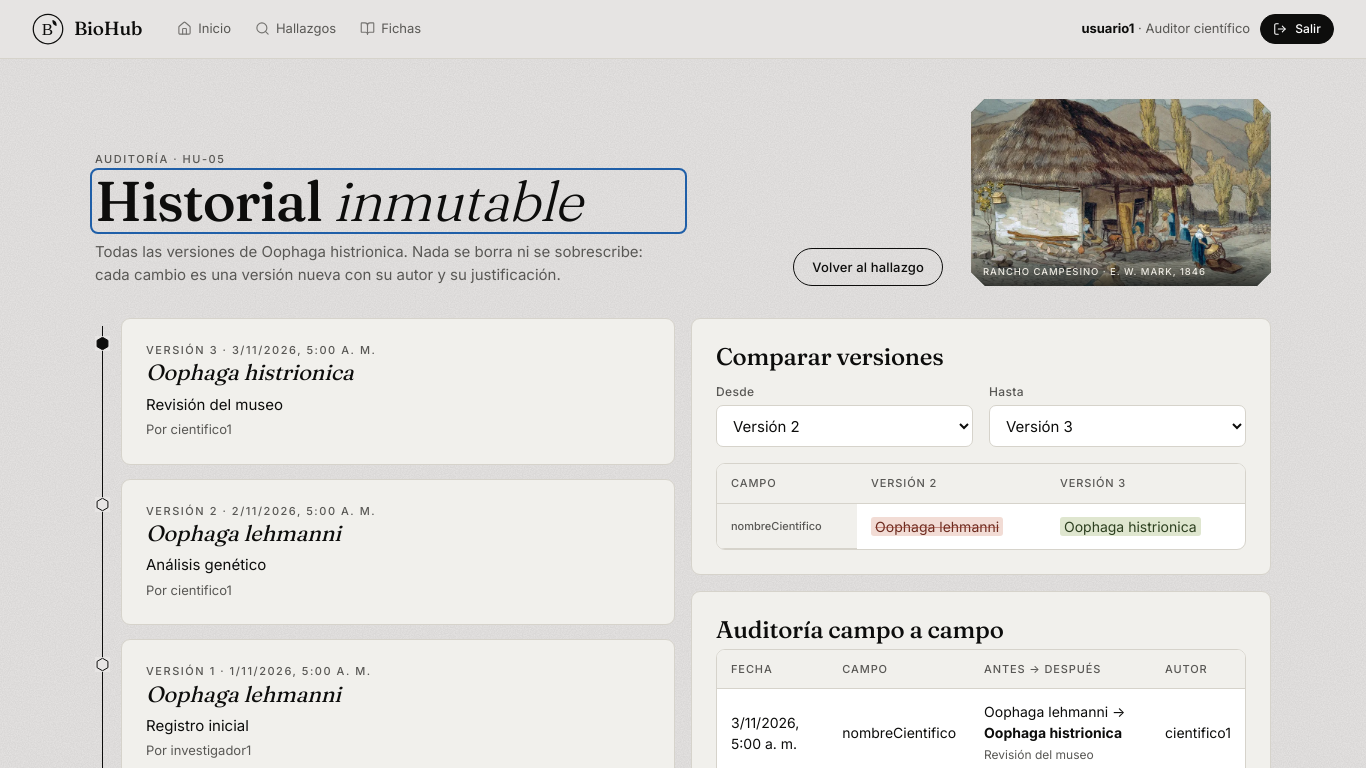
it: Historial del hallazgo (HU-05) › compara por defecto las dos últimas versiones y deja elegir otras
Select "Versión 1" in the dropdown labelled "Desde" at (844, 426), box [716,405,973,447]
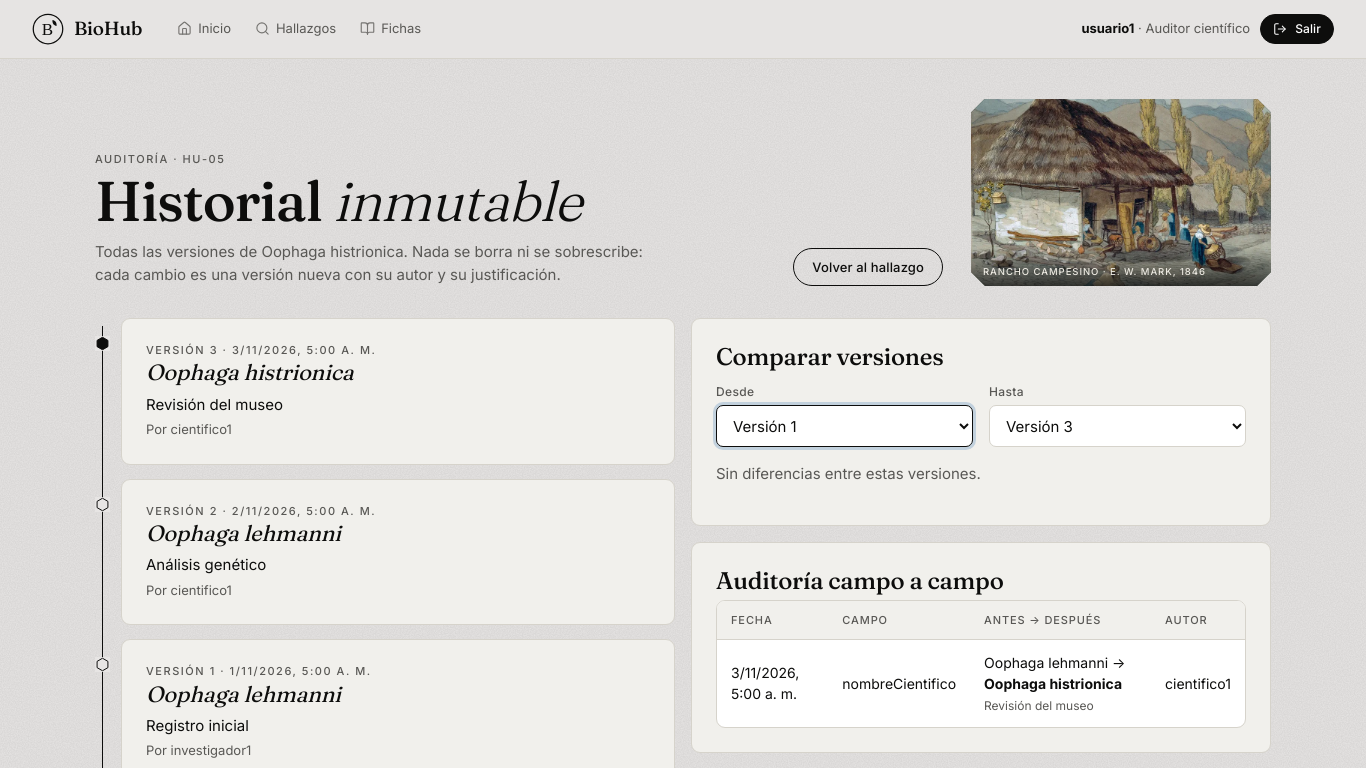
Check: the text "Sin diferencias entre estas versiones." is shown, box [716,464,981,483]
Select "Versión 3" in the dropdown labelled "Desde" at (844, 426), box [716,405,973,447]
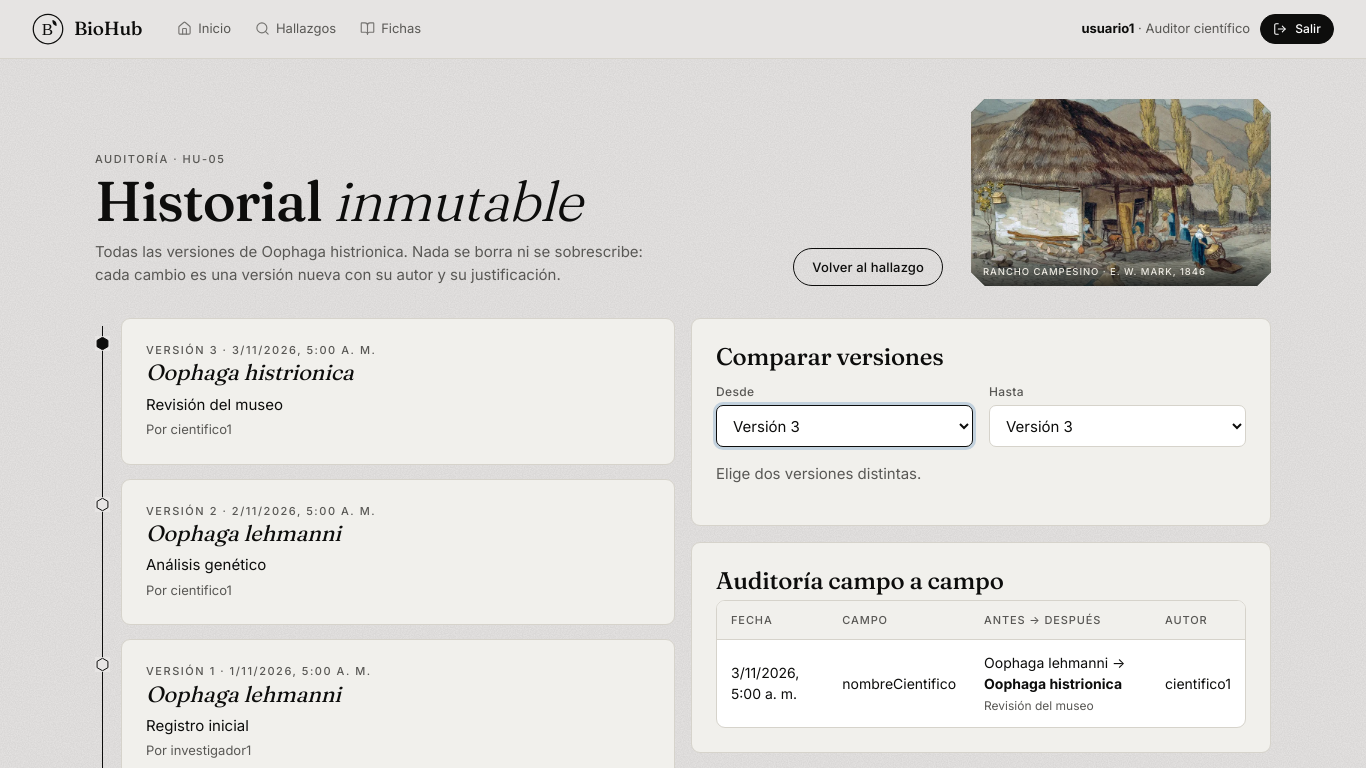
Check: the text "Elige dos versiones distintas." is shown, box [716,464,921,483]
